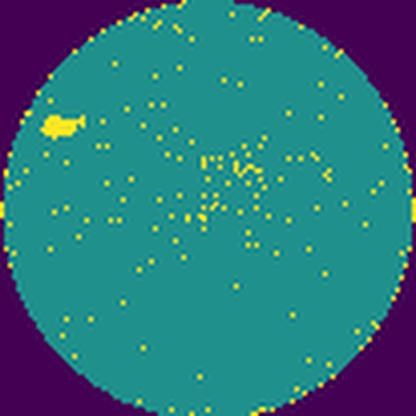Loc: (39, 108, 88, 138)
